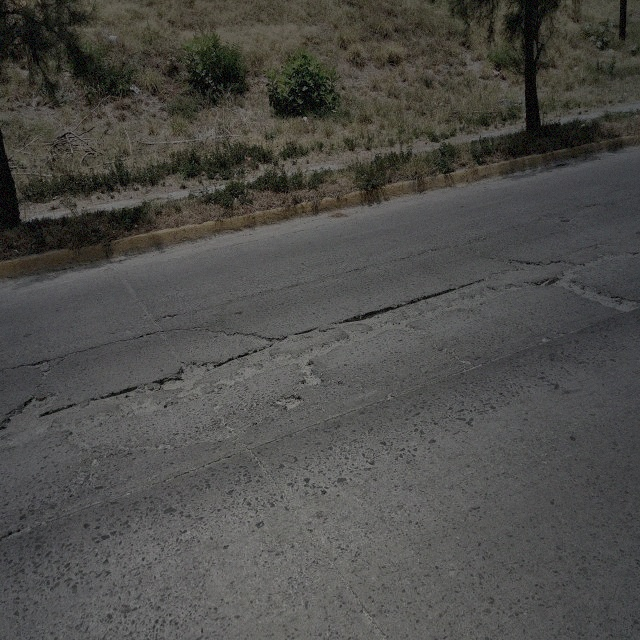pothole: (543, 271, 638, 317), (2, 390, 57, 449), (158, 356, 220, 402), (344, 310, 402, 333), (293, 356, 324, 390), (279, 392, 304, 414)
